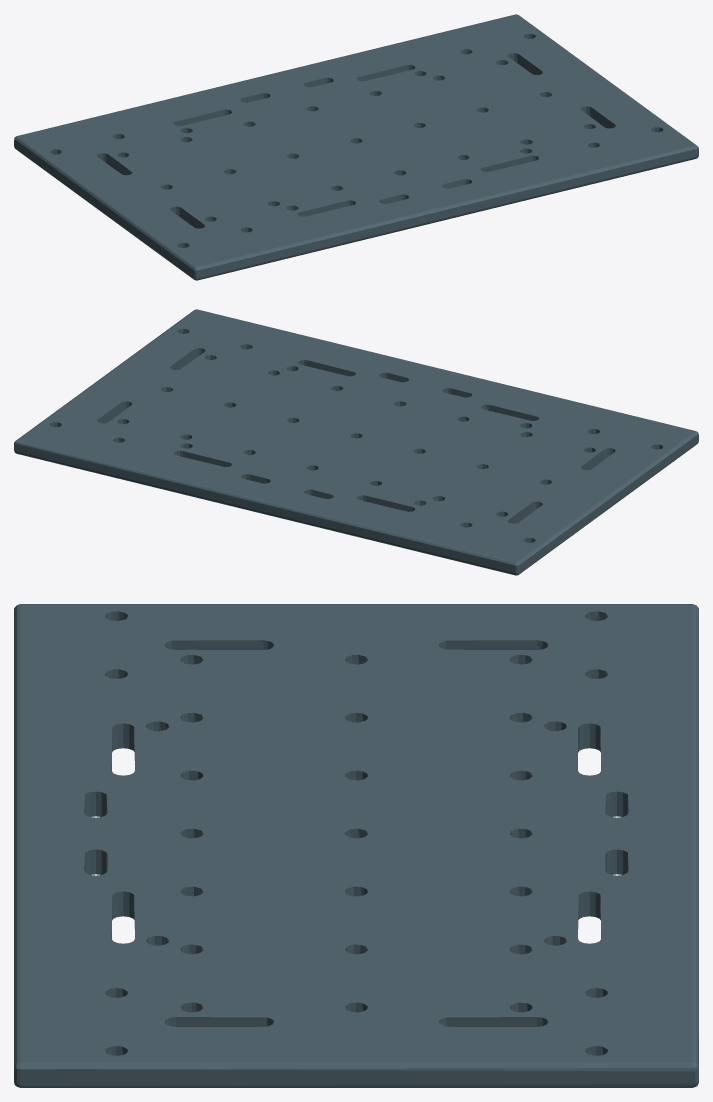
File: chassis.glb
3 views of the same model, one above another, from view 1: azimuth 30°, elevation 25°; view 2: azimuth 150°, elevation 25°; view 3: azimuth 270°, elevation 25° (orthographic). The views are drawn at different scales.
Visible parts, largest first — view 1: print_chassis_base; view 2: print_chassis_base; view 3: print_chassis_base.
Part boxes in pixels (x1,y1,x2,y2): print_chassis_base: (14, 14, 698, 280); print_chassis_base: (14, 309, 698, 575); print_chassis_base: (14, 604, 698, 1087).
Bounding box in the file's own units: 1.6 × 0.04 × 0.9989.
